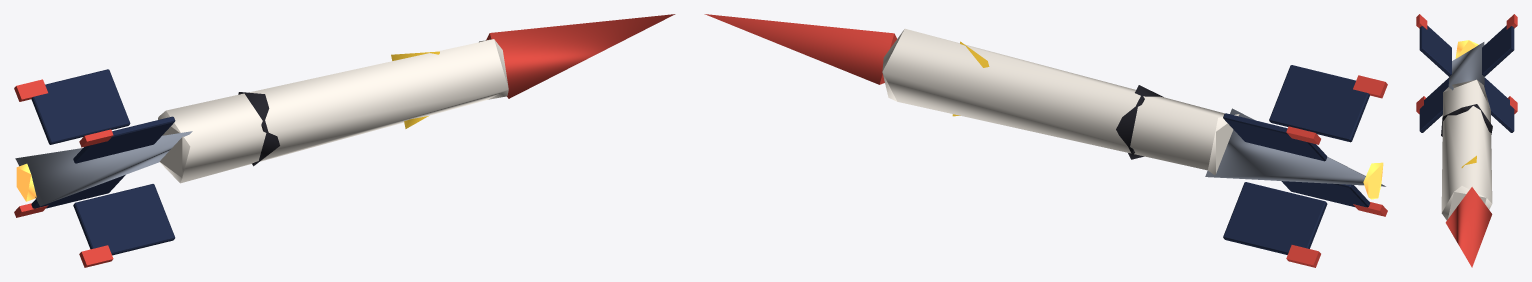
The model's file is icbm.glb.
3 renders of one model, left to right at view 1: azimuth 30°, elevation 25°; view 2: azimuth 150°, elevation 25°; view 3: azimuth 270°, elevation 25°, orthographic. The views are drawn at different scales.
Visible parts, largest first — view 1: icbm.003; view 2: icbm.003; view 3: icbm.003.
Part boxes in pixels (x1,y1,x2,y2): icbm.003: (14,14,675,267); icbm.003: (704,14,1387,267); icbm.003: (1416,14,1517,267).
Size of the model in its own units: 34.45 by 6.64 by 6.64.
1 material, 1 textured.
